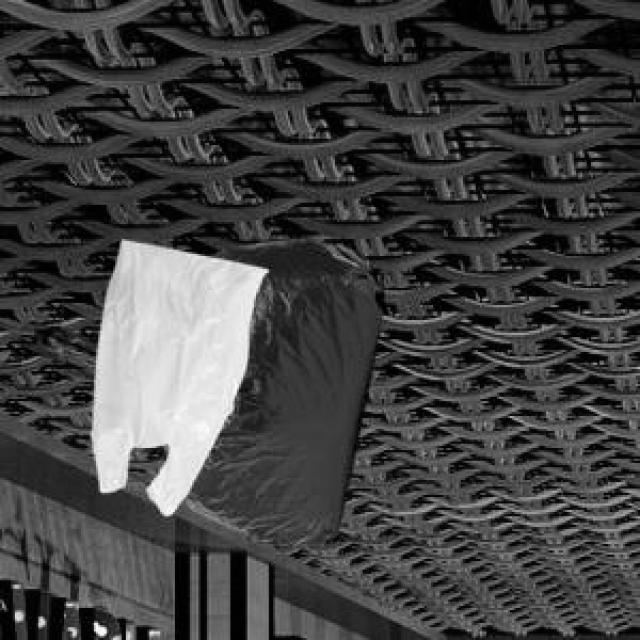miscellaneous trash: (30, 237, 380, 542), (88, 237, 262, 512)
